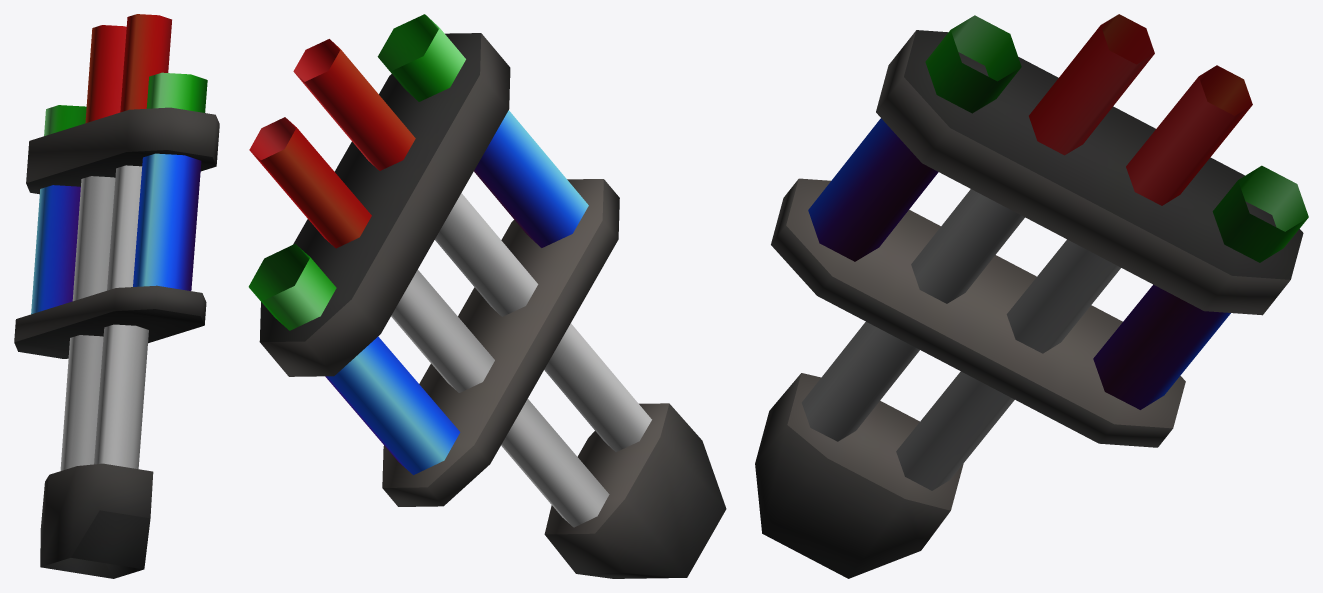
The model's file is F1_Suspension_FR.fbx.
3 views of the same model, side by side, from view 1: azimuth 30°, elevation 25°; view 2: azimuth 150°, elevation 25°; view 3: azimuth 270°, elevation 25° (orthographic). The views are drawn at different scales.
Parts seen in each view (by area): view 1: F1_Suspension_FR; view 2: F1_Suspension_FR; view 3: F1_Suspension_FR.
Boxes of the visible parts, bbox=[...] form: F1_Suspension_FR: bbox=[14, 14, 219, 578]; F1_Suspension_FR: bbox=[248, 14, 726, 578]; F1_Suspension_FR: bbox=[755, 14, 1308, 578].
Size of the model in its own units: 736 by 1494 by 1159.
